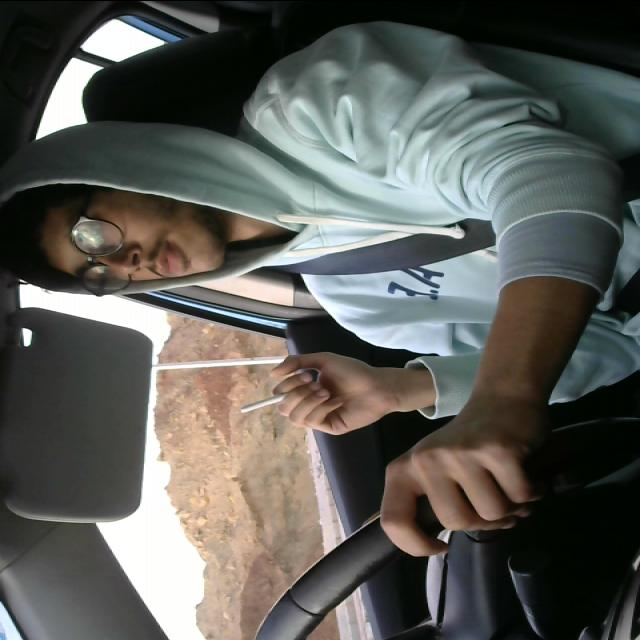smoking: (233, 388, 314, 418)
